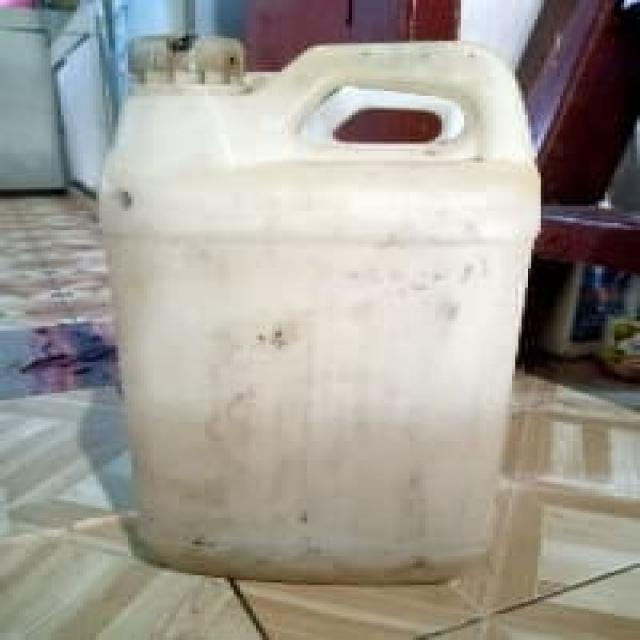HDPE Plastic: (92, 27, 550, 591)
